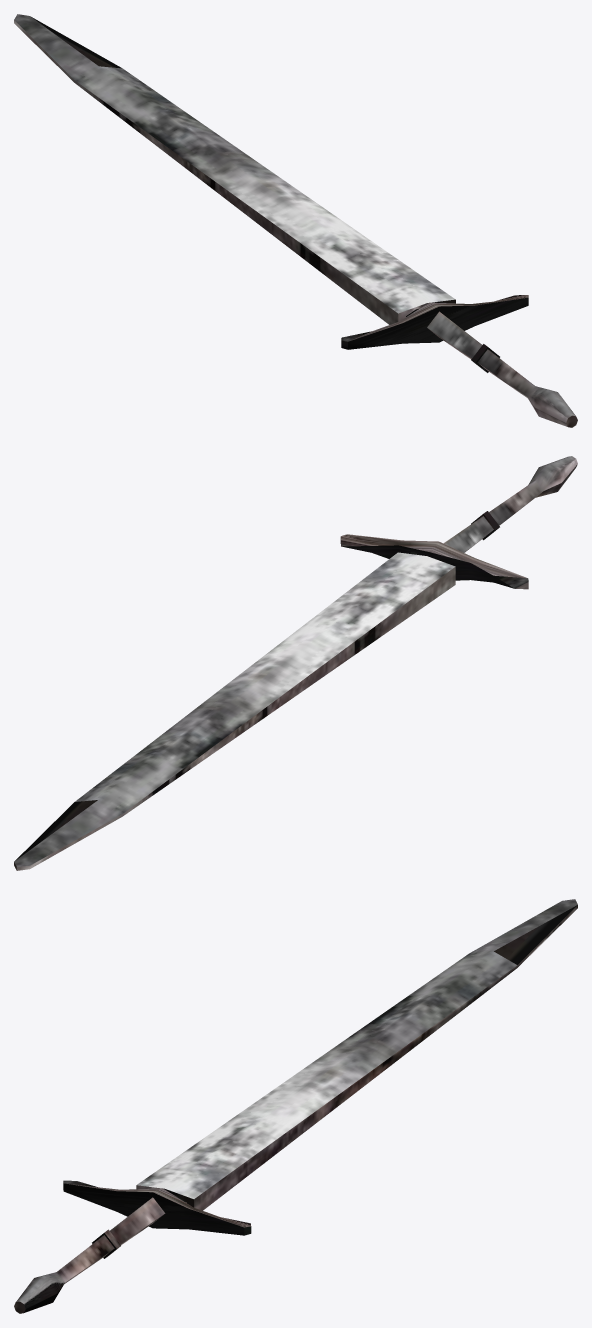
3 renders of one model, top to bottom at view 1: azimuth 30°, elevation 25°; view 2: azimuth 150°, elevation 25°; view 3: azimuth 330°, elevation 25°, orthographic.
Parts seen in each view (by area): view 1: mesh_0; view 2: mesh_0; view 3: mesh_0.
Boxes of the visible parts, box(x1,y1,x2,y2) form: mesh_0: box(14, 14, 577, 427); mesh_0: box(14, 456, 577, 870); mesh_0: box(14, 899, 577, 1313).
Size of the model in its own units: 12.74 by 2.34 by 65.25.
Materials: 1 (1 with a texture image).
